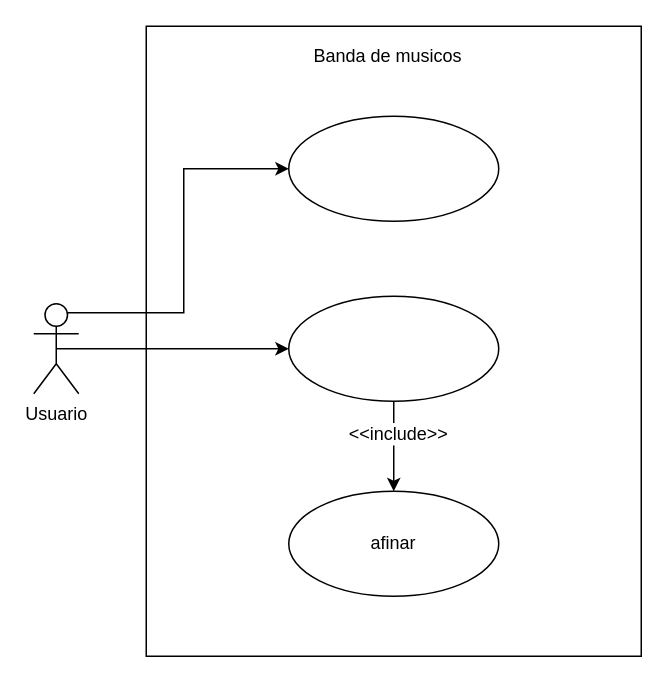
The diagram is 668 pixels wide and 683 high, and some of its shapes have lost their labels. Here are the shapes that lost their labels. From the top down, the box of each, then its label:
(287, 115, 499, 221): obtener grupo musical
(287, 295, 499, 401): tocar
